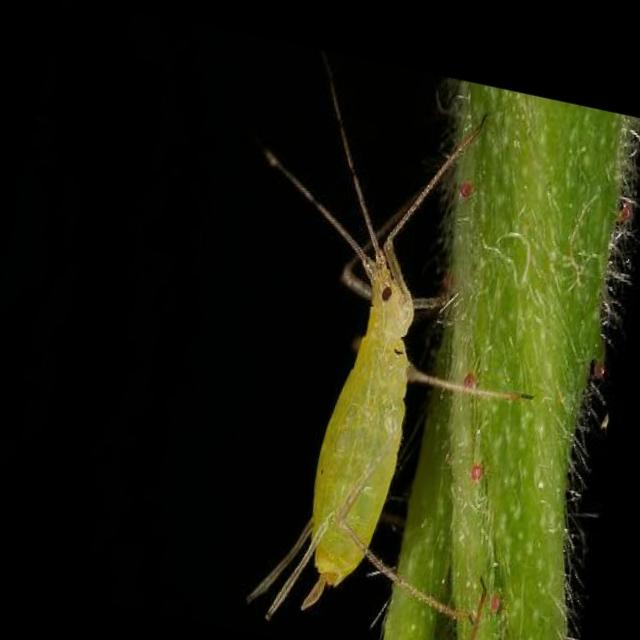Aphids: (181, 86, 583, 640)
